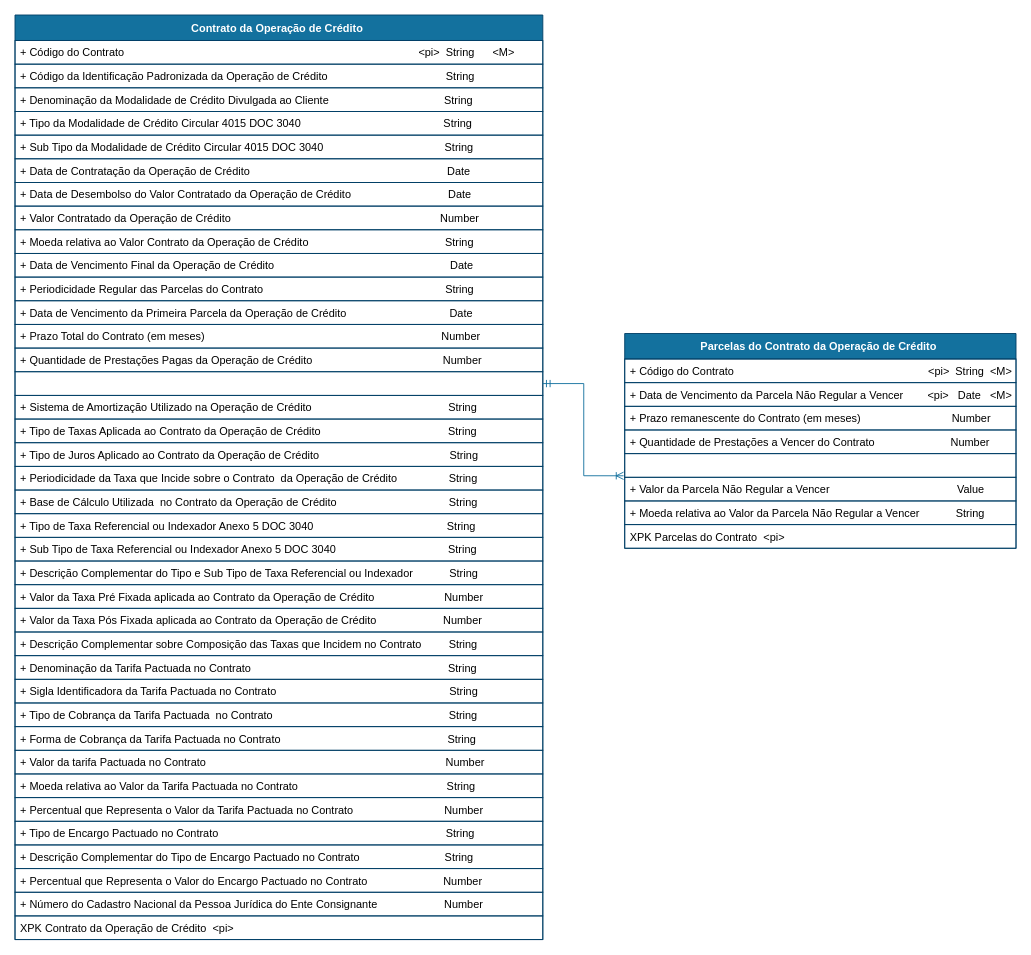
This 1031x955 diagram has some shape labels left out. The centre of each missing label's shape, as x and y in pixels:
"+ Custo Efetivo Total da Operação de Crédito Number" goes at pixel 278 383.
"+ Quantidade de Prestações Vencidas do Contrato Number" goes at pixel 820 465.
